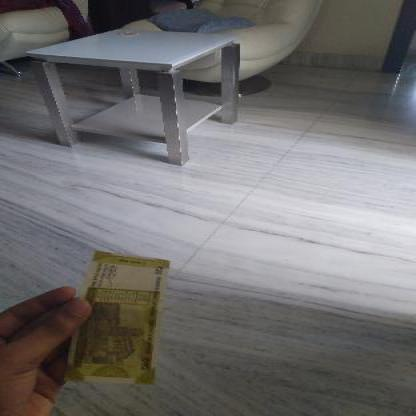New20Back: (63, 237, 164, 387)
